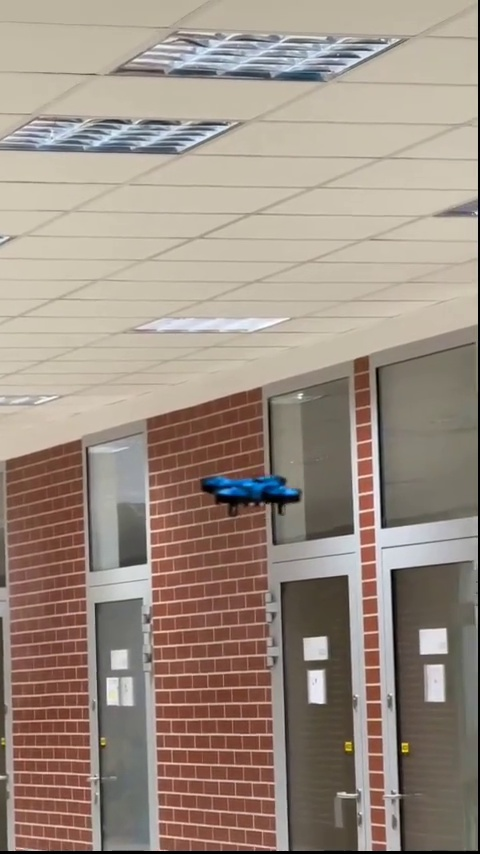drone: (204, 468, 308, 525)
